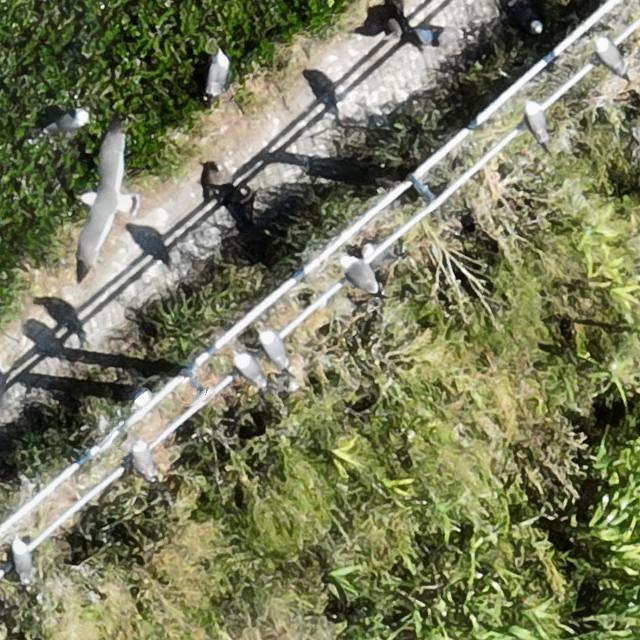F: (78, 139, 138, 255)
umineko: (335, 255, 382, 295), (595, 38, 628, 78), (10, 537, 35, 588), (414, 26, 466, 48), (259, 332, 287, 371), (233, 356, 264, 391), (525, 100, 548, 144), (46, 111, 86, 132), (132, 441, 154, 478), (210, 54, 228, 91), (520, 12, 542, 34)
